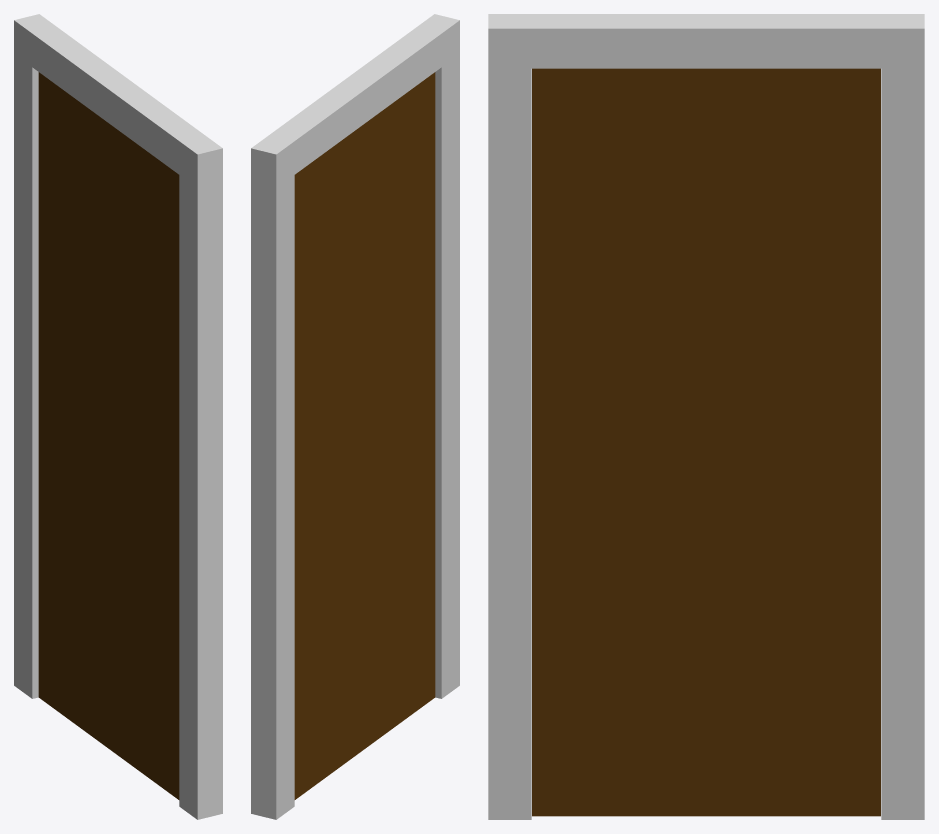
The model's file is vbasic.door.glb.
3 renders of one model, left to right at view 1: azimuth 30°, elevation 25°; view 2: azimuth 150°, elevation 25°; view 3: azimuth 270°, elevation 25°, orthographic. The views are drawn at different scales.
Visible parts, largest first — view 1: door, door-frame; view 2: door, door-frame; view 3: door, door-frame.
Boxes of the visible parts, x1,y1,x2,y2 form: door: (38,72,179,799); door-frame: (14,14,222,819); door: (294,72,435,799); door-frame: (251,14,459,819); door: (532,68,880,816); door-frame: (488,14,924,819).
Bounding box in the file's own units: 0.0399 × 1 × 0.5.
